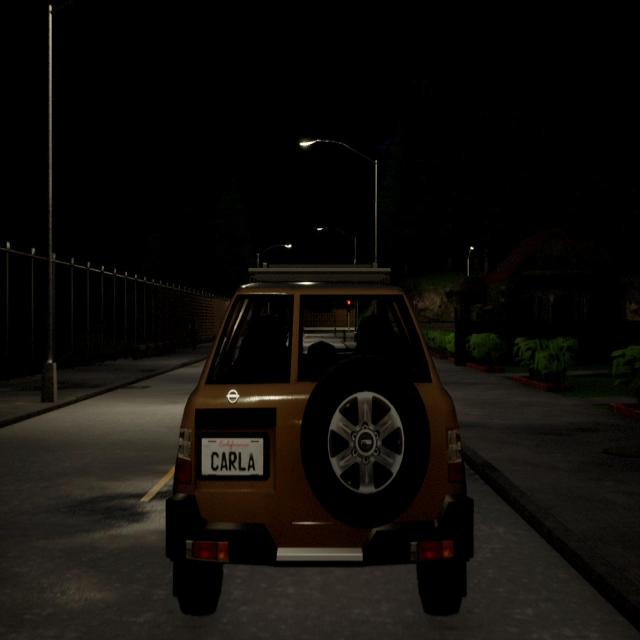Vehicle: (164, 267, 474, 619)
traffic_light: (346, 298, 352, 314)
